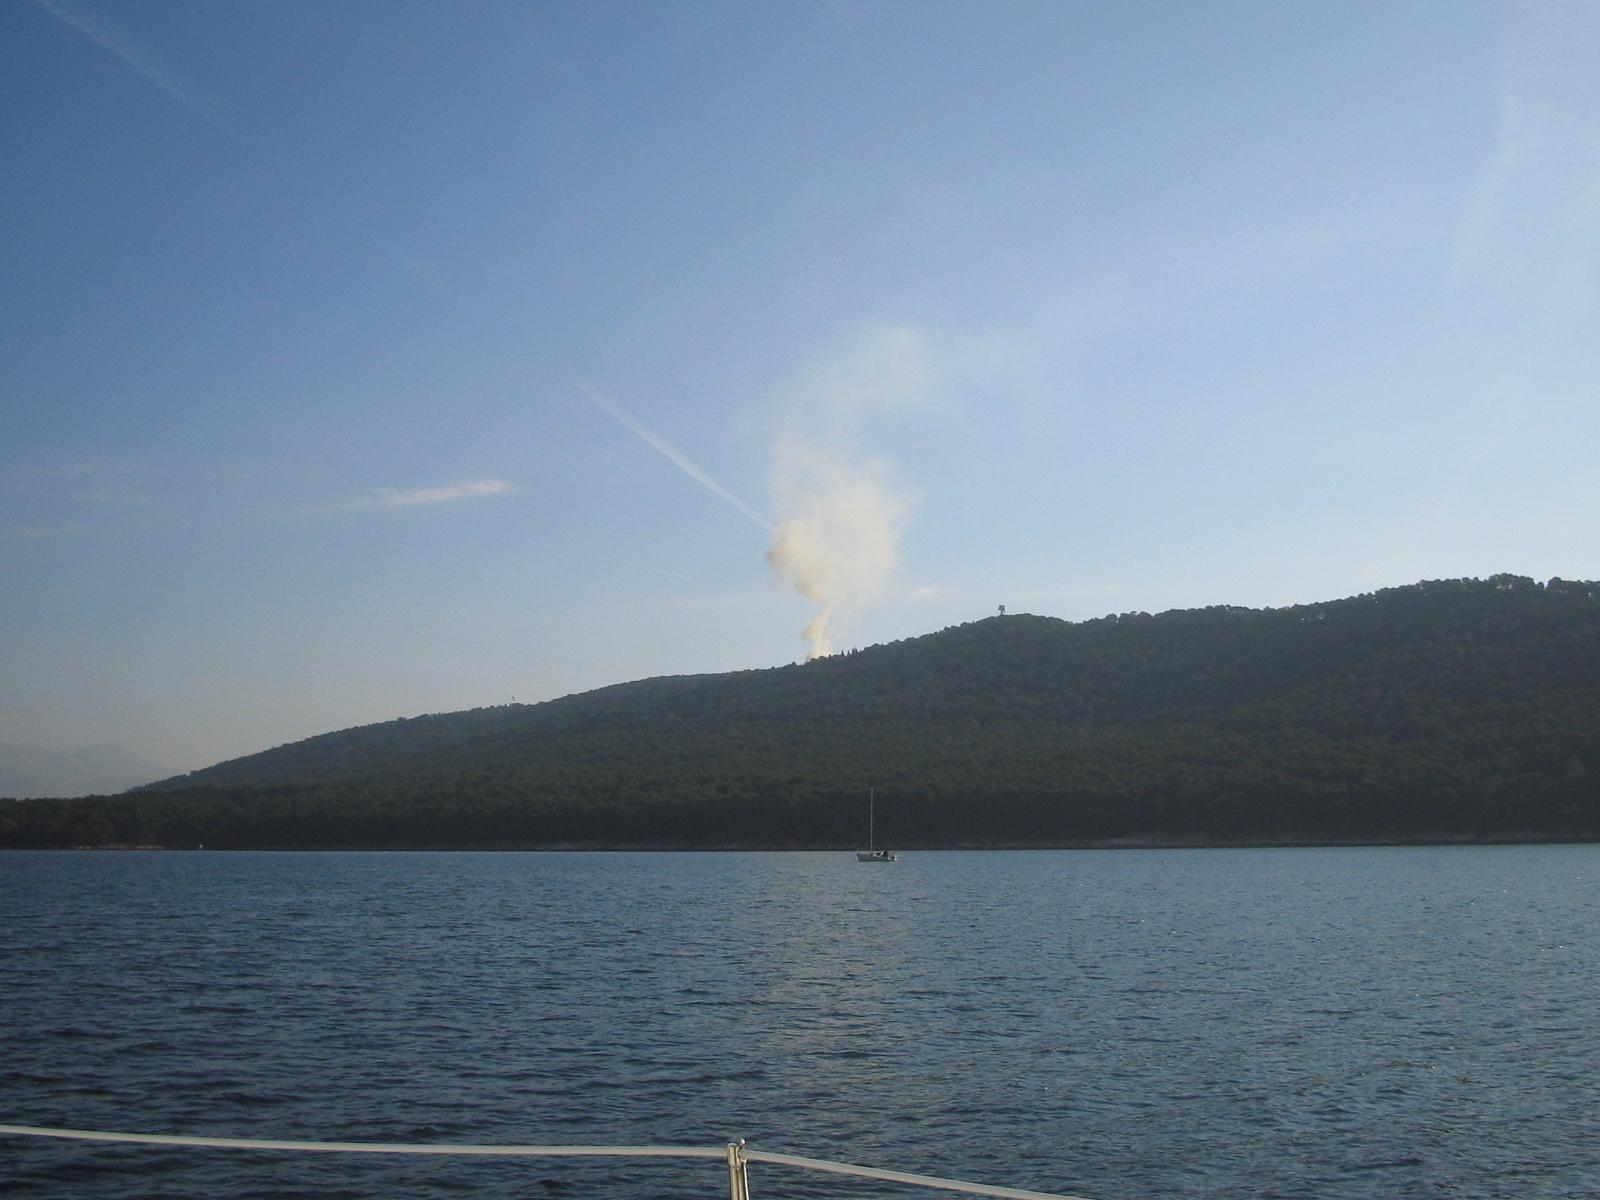Smoke: (763, 324, 935, 666)
